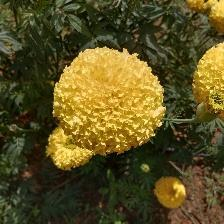marigold: (52, 45, 168, 157)
